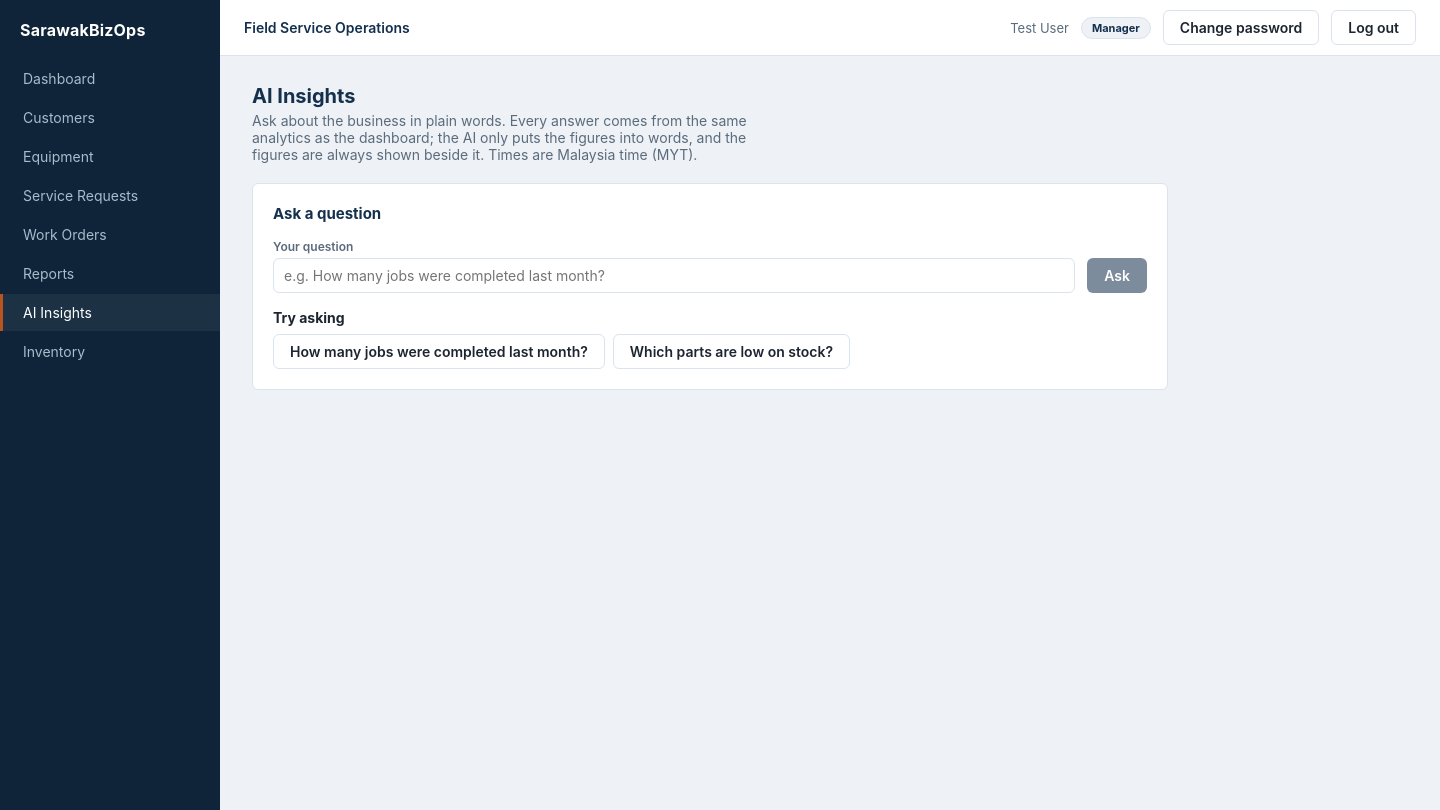
Scenario: AI Manager Insights › shows the figures when the summary is unavailable, money as RM and missing values as no data
In the field labelled "Your question": (674, 276) [273,258,1075,293], type "How much did we spend on parts?"
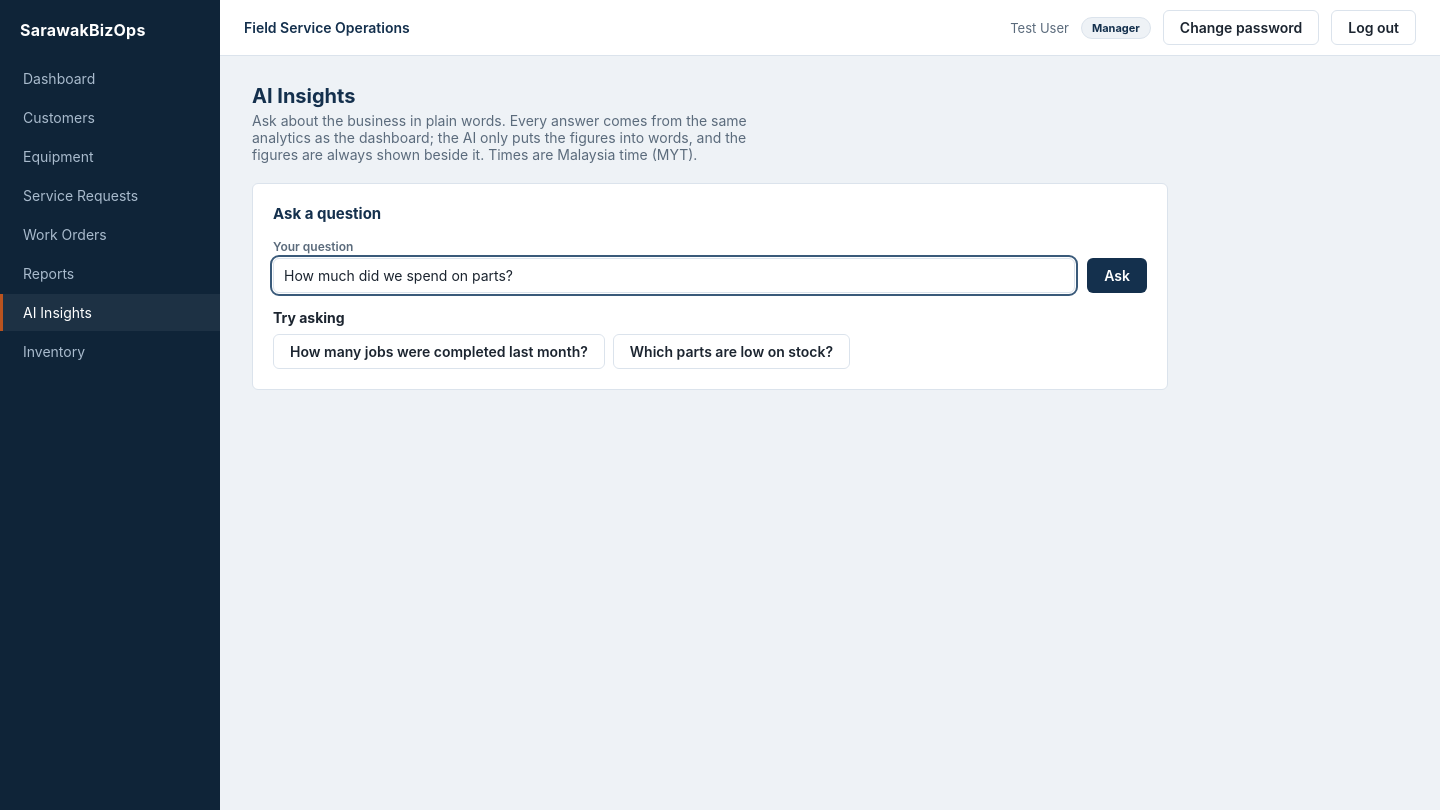
Click the button "Ask": (1117, 276) [1087,258,1147,293]
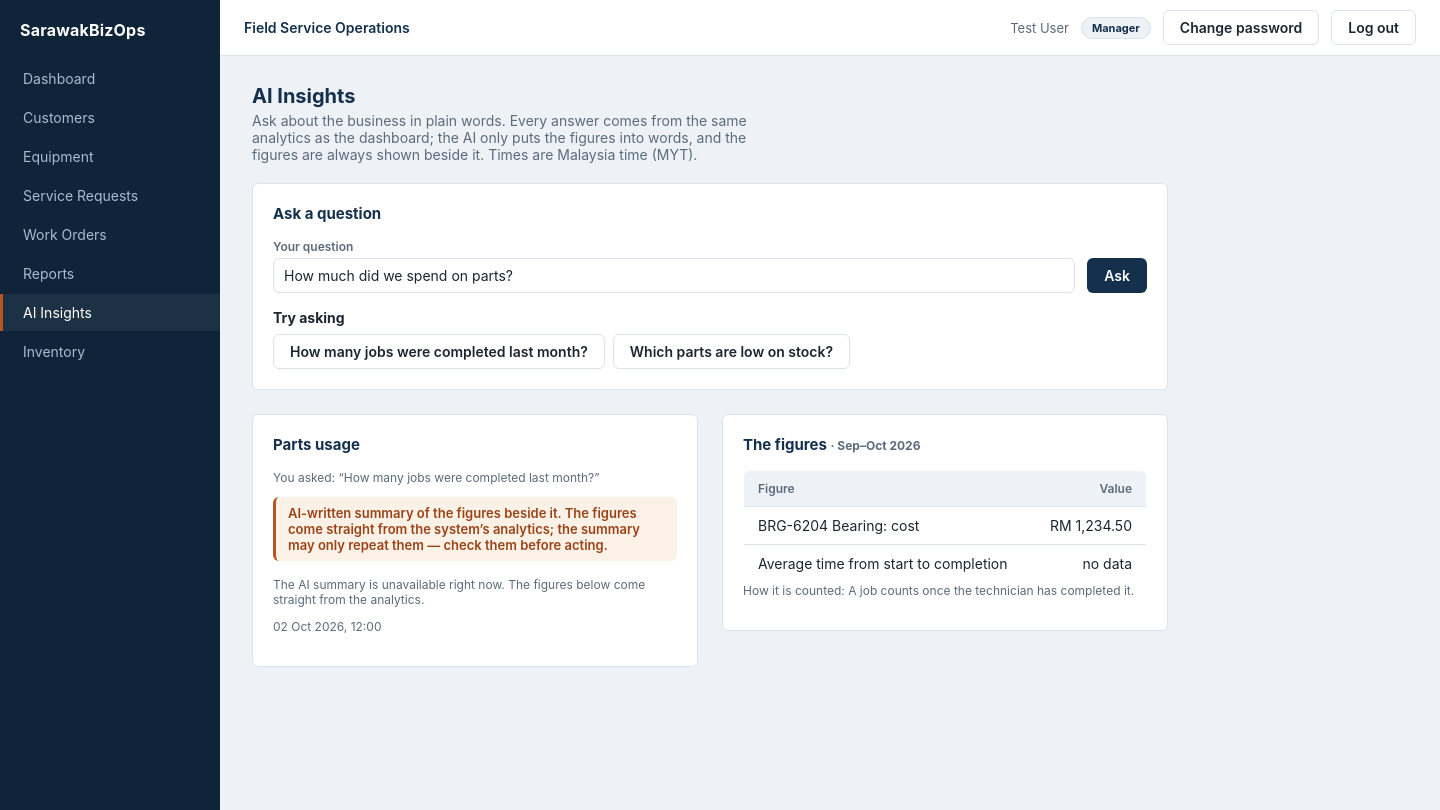
Expected: the message shows "The AI summary is unavailable right now", [273,577,645,607]
Expected: the row "BRG-6204 Bearing: cost RM 1,234.50" is shown, [744,507,1146,544]
Expected: the row "Average time from start to completion no data" is shown, [744,544,1146,582]
